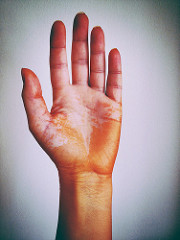palm: (51, 87, 123, 167)
